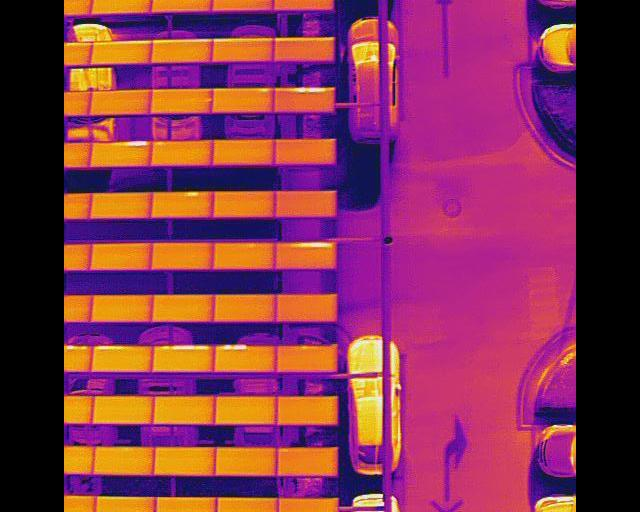Cell: (148, 190, 215, 216)
No-Anomaly: (215, 446, 278, 476), (91, 445, 155, 474), (213, 294, 279, 322), (276, 446, 338, 475), (215, 395, 278, 423), (154, 446, 216, 474), (152, 395, 216, 422), (273, 190, 336, 217), (91, 395, 154, 422), (211, 86, 276, 112), (212, 242, 277, 268), (152, 294, 214, 321), (276, 293, 337, 320), (89, 242, 152, 268), (213, 139, 276, 165), (87, 89, 152, 114), (149, 243, 214, 268), (276, 138, 336, 165), (276, 395, 336, 422), (275, 345, 337, 371), (92, 294, 154, 320), (90, 345, 154, 370), (150, 140, 214, 165), (273, 36, 334, 62), (88, 40, 153, 64), (149, 38, 214, 62), (89, 192, 150, 217), (215, 190, 274, 215), (213, 37, 274, 61), (150, 88, 213, 111), (216, 496, 279, 512), (95, 496, 156, 512), (277, 497, 339, 512), (156, 497, 217, 512), (89, 0, 152, 13), (149, 0, 214, 12), (212, 0, 273, 9), (276, 0, 333, 8)
Unclassified: (215, 344, 278, 372), (152, 345, 215, 372), (272, 86, 336, 111), (89, 140, 151, 165), (275, 241, 335, 266)
